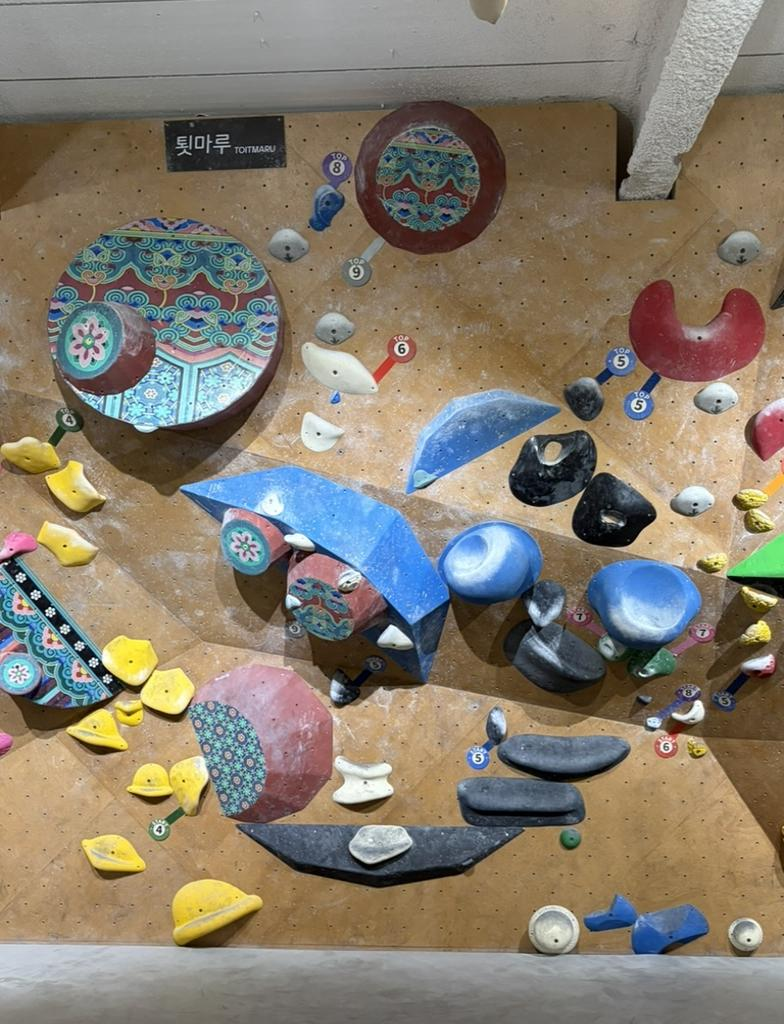crimp: (414, 469, 436, 488), (330, 391, 340, 403)
downhold: (718, 230, 761, 265), (694, 382, 738, 414), (268, 228, 308, 262), (671, 485, 714, 516), (315, 312, 354, 345)
jug: (629, 280, 764, 380), (302, 342, 376, 392), (46, 460, 105, 511), (38, 521, 97, 565), (0, 436, 60, 473), (750, 397, 783, 459), (308, 184, 344, 230), (565, 377, 603, 420), (302, 412, 343, 451), (741, 586, 777, 613), (739, 620, 771, 645), (673, 699, 704, 724), (733, 489, 768, 509), (744, 509, 774, 532), (697, 552, 727, 572)
ledge: (587, 560, 700, 649), (438, 521, 541, 603), (504, 621, 604, 693), (498, 734, 630, 779), (458, 778, 584, 825)
pocket: (509, 430, 595, 506), (572, 473, 655, 546)
sidepull: (169, 755, 208, 815), (487, 706, 505, 744)
sloper: (356, 102, 504, 252), (56, 302, 154, 394), (287, 552, 386, 640), (219, 509, 289, 574), (333, 756, 393, 804), (529, 906, 579, 954), (729, 917, 763, 953)
tape: (712, 656, 774, 710), (649, 684, 699, 727), (372, 335, 414, 383), (342, 237, 383, 286), (626, 373, 659, 420), (595, 347, 636, 384), (343, 655, 386, 689), (671, 623, 715, 656), (49, 408, 83, 446), (149, 807, 184, 840), (654, 721, 685, 758), (567, 608, 604, 637), (323, 152, 351, 185), (763, 460, 783, 496), (467, 744, 491, 769), (285, 620, 305, 638)
undercling: (103, 636, 157, 685), (141, 668, 194, 714), (330, 670, 358, 705)
volume: (182, 467, 448, 681), (48, 219, 281, 429), (188, 663, 332, 821), (0, 557, 124, 707), (238, 824, 524, 886), (406, 390, 558, 492)
